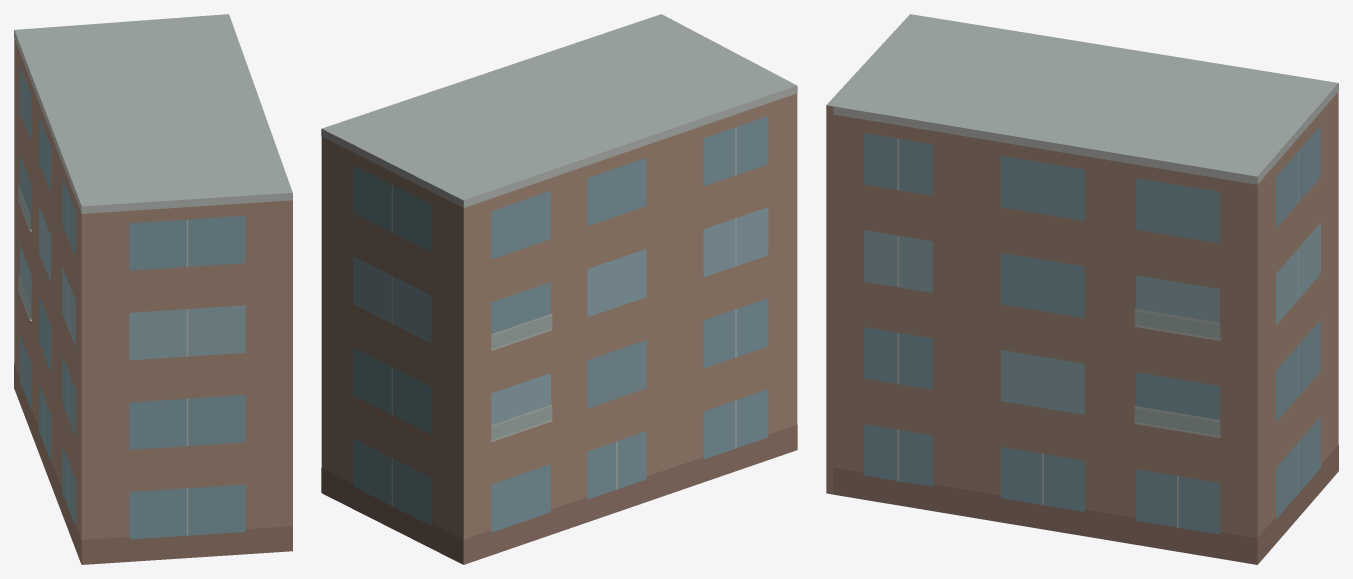
File: survey-upis-32571451.glb
3 renders of one model, left to right at view 1: azimuth 30°, elevation 25°; view 2: azimuth 150°, elevation 25°; view 3: azimuth 270°, elevation 25°, orthographic. The views are drawn at different scales.
Visible parts, largest first — view 1: survey-upis-32571451.tmp; view 2: survey-upis-32571451.tmp; view 3: survey-upis-32571451.tmp.
Part boxes in pixels (x1,y1,x2,y2): survey-upis-32571451.tmp: (14,14,292,564); survey-upis-32571451.tmp: (321,14,797,564); survey-upis-32571451.tmp: (826,14,1338,564).
Bounding box in the file's own units: 10.48 × 11.65 × 13.95.
